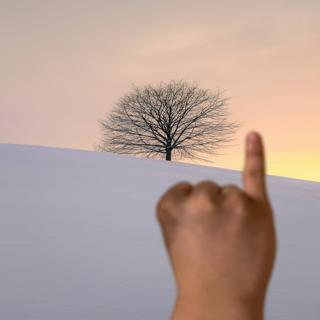FINE: (147, 127, 282, 299)
